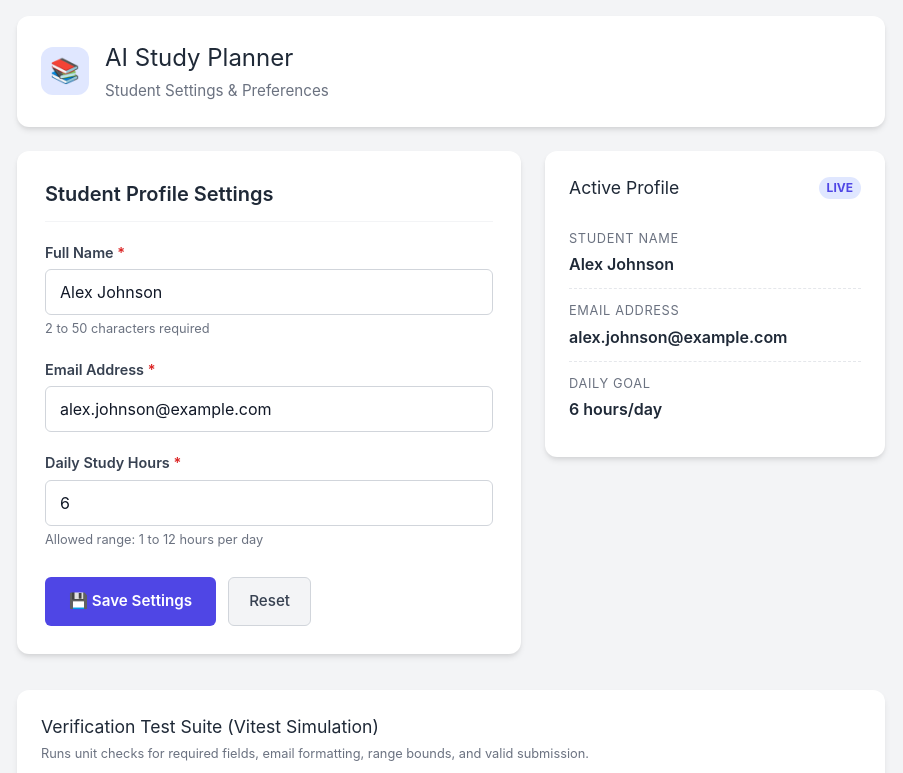
Student Settings Form › shows an error for an invalid email
Replace the text in the field labelled "Email Address *" with "abc" at (269, 409), box [45,386,493,432]
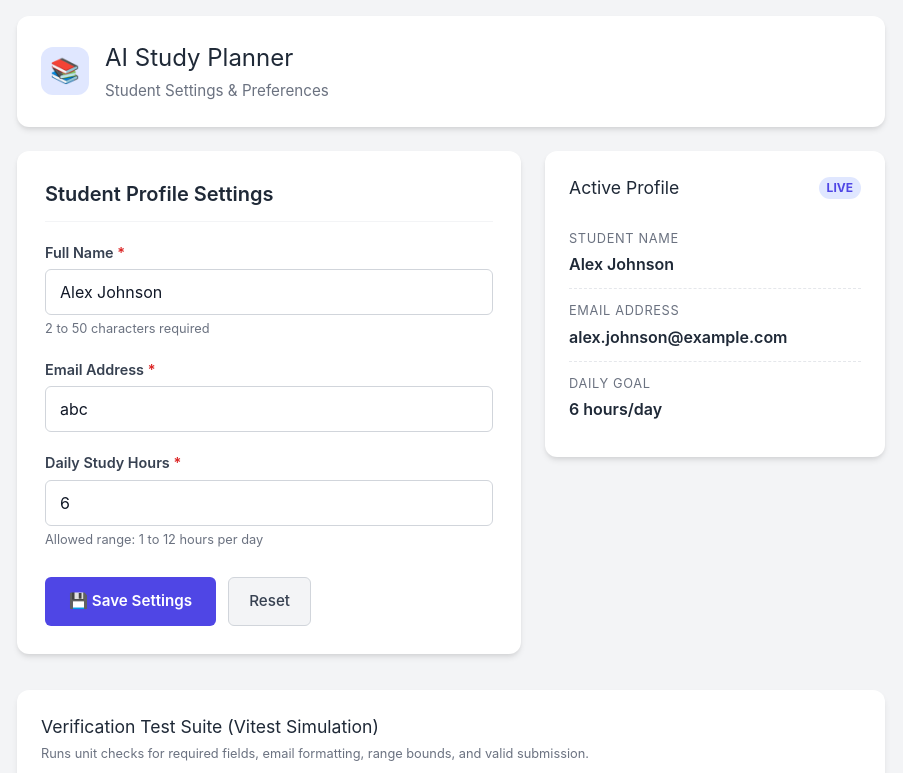
Click the button "💾 Save Settings".
click(131, 601)  # box [45,577,216,626]
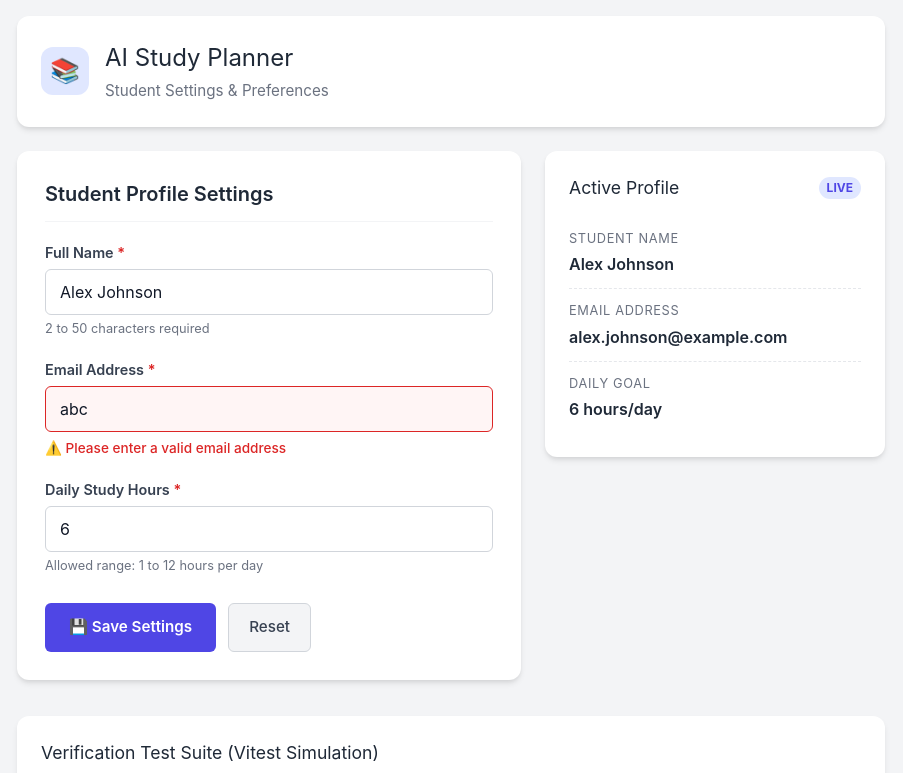
Result: the text "⚠️ Please enter a valid email address" is shown at [45,440,286,456]
